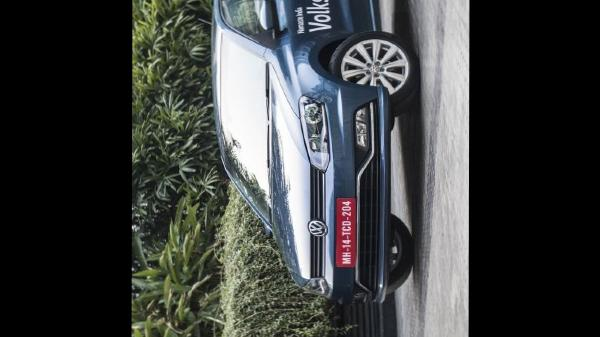plate: (330, 188, 365, 273)
